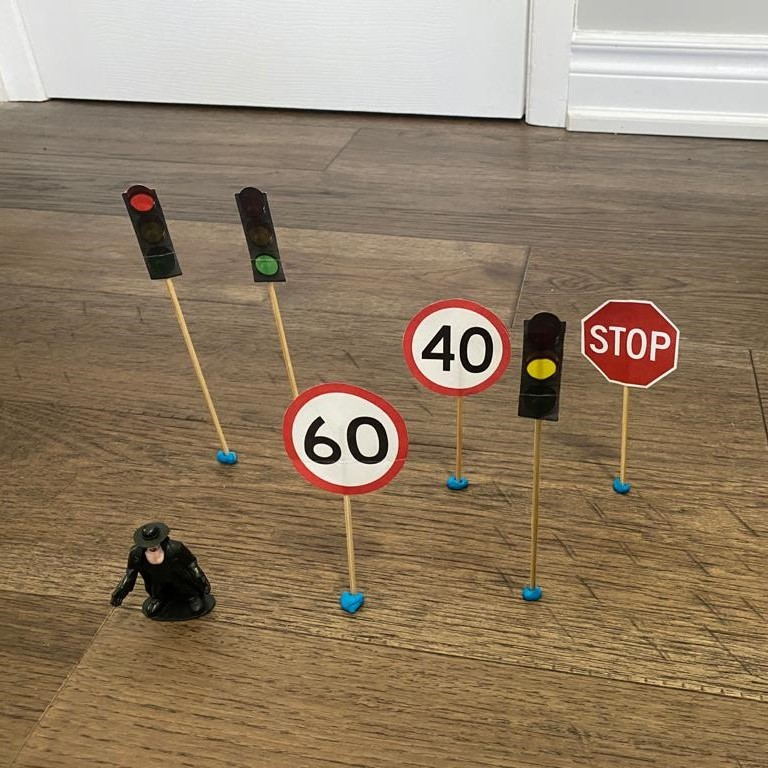Green Traffic Light: (231, 184, 291, 286)
Person: (108, 519, 217, 632)
Red Traffic Light: (120, 181, 186, 282)
Speed Limit 40: (401, 298, 512, 401)
Speed Limit 60: (276, 379, 412, 504)
Stop Sign: (579, 294, 679, 399)
Yellow Traffic Light: (513, 308, 570, 427)
